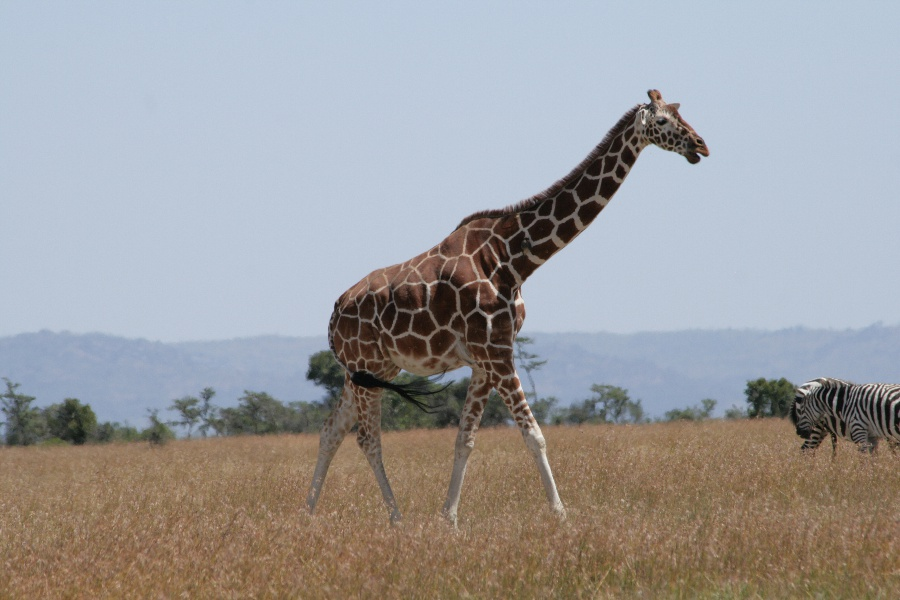giraffe: (289, 84, 709, 518)
